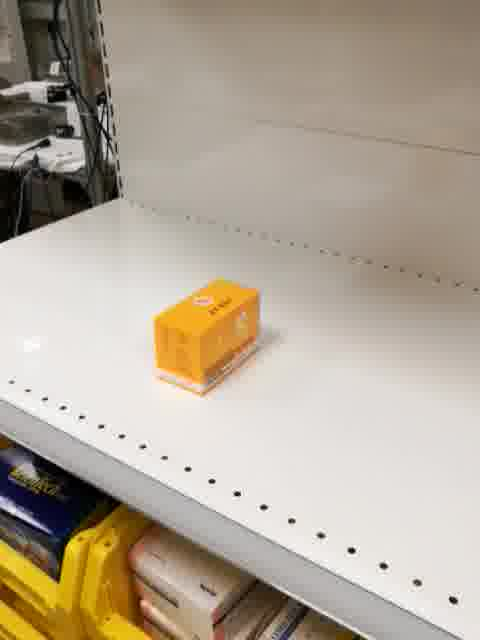jasminetea: (152, 274, 262, 399)
